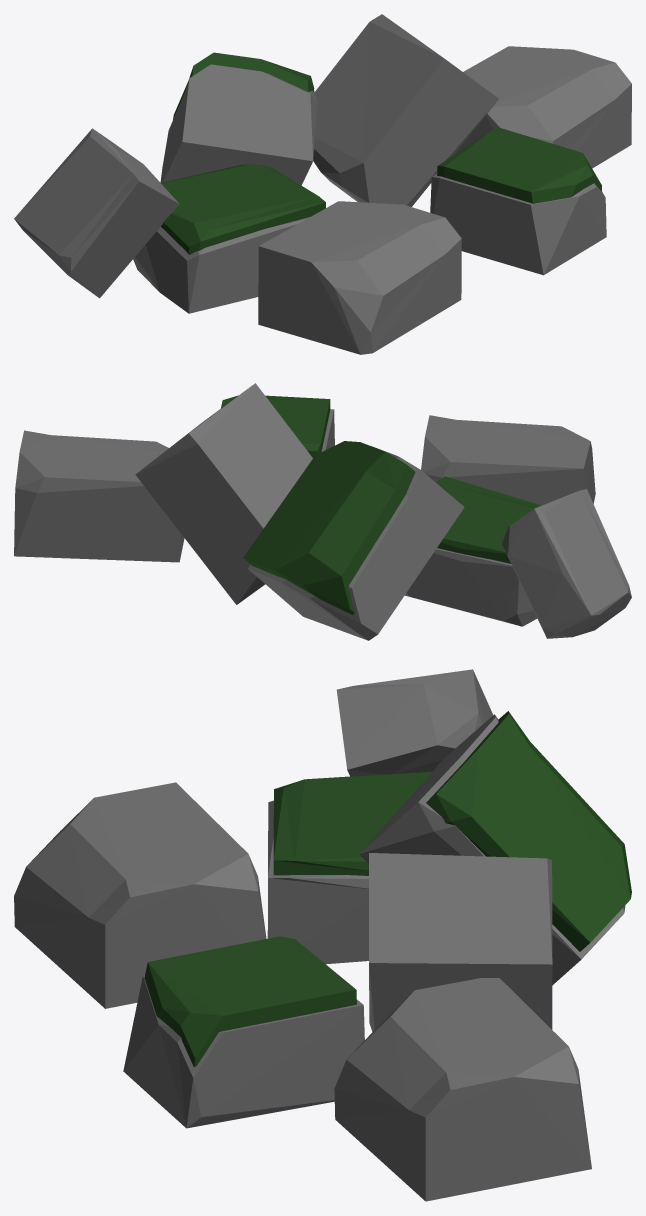
Rendered from SM_pile_blocks_01.fbx.
3 renders of one model, top to bottom at view 1: azimuth 30°, elevation 25°; view 2: azimuth 150°, elevation 25°; view 3: azimuth 270°, elevation 25°, orthographic. The views are drawn at different scales.
Parts seen in each view (by area): view 1: Object108; view 2: Object108; view 3: Object108.
Part boxes in pixels (bbox=[...]): Object108: bbox=[14, 14, 631, 354]; Object108: bbox=[14, 383, 631, 640]; Object108: bbox=[14, 669, 631, 1201].
Bounding box in the file's own units: 166 × 48.49 × 109.
